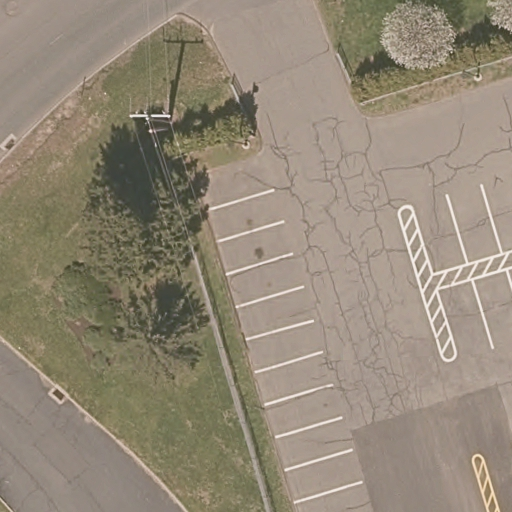DT: (129, 110, 171, 122)
